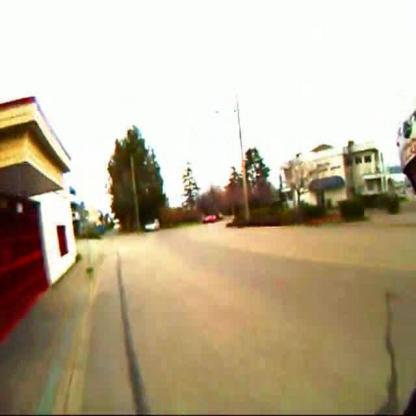other: (60, 128, 117, 223)
